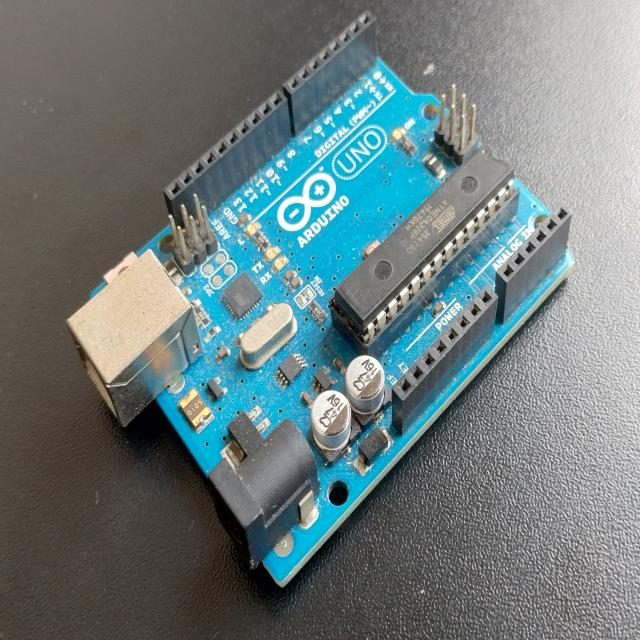arduino: (82, 11, 578, 583)
